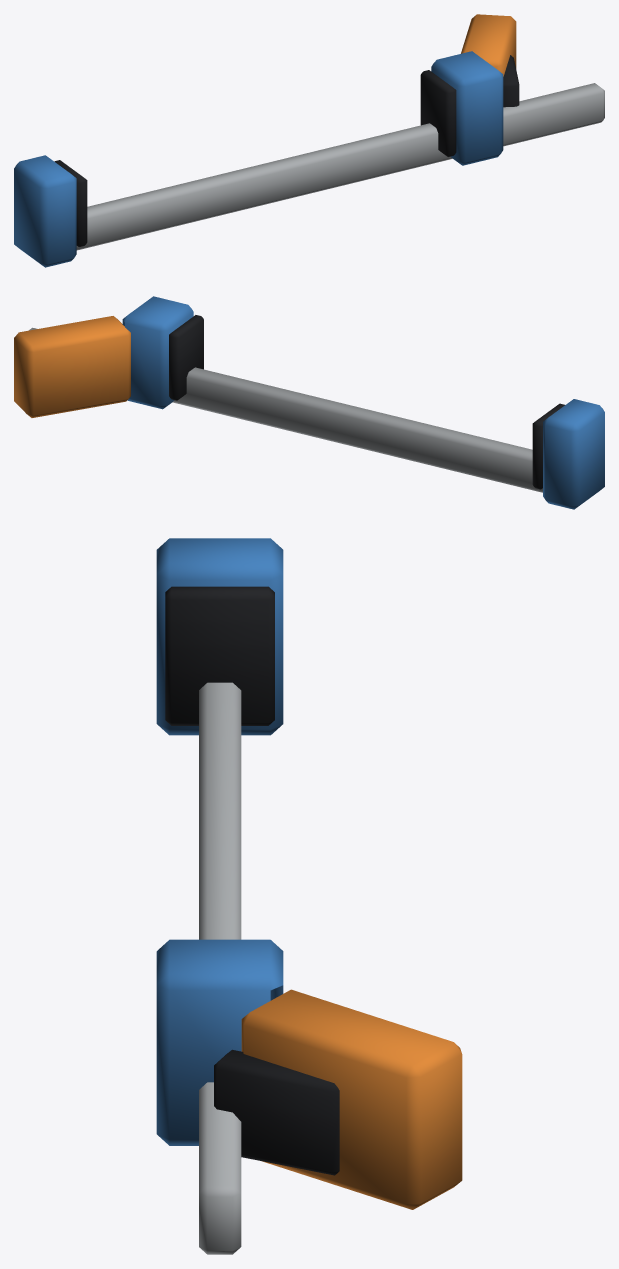
File: SM_Clamp_Bar_01.glb
3 renders of one model, top to bottom at view 1: azimuth 30°, elevation 25°; view 2: azimuth 150°, elevation 25°; view 3: azimuth 270°, elevation 25°, orthographic. The views are drawn at different scales.
Parts seen in each view (by area): view 1: SM_Clamp_Bar_01; view 2: SM_Clamp_Bar_01; view 3: SM_Clamp_Bar_01.
Part boxes in pixels (x1,y1,x2,y2): SM_Clamp_Bar_01: (14, 14, 604, 267); SM_Clamp_Bar_01: (14, 296, 604, 509); SM_Clamp_Bar_01: (156, 538, 462, 1254).
Size of the model in its own units: 0.62 by 0.09 by 0.1447.
1 material, 1 textured.
